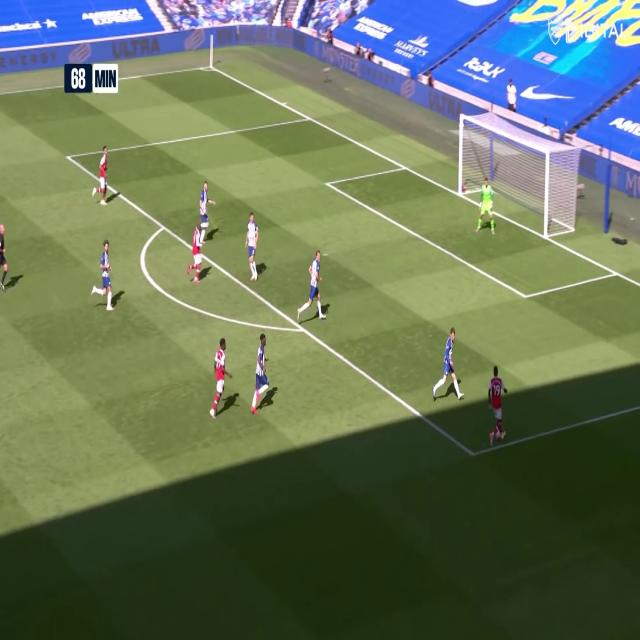Ball: (496, 430, 502, 441)
TEAM 1: (209, 336, 232, 419), (474, 179, 497, 236), (95, 146, 115, 210), (490, 369, 507, 444), (245, 213, 263, 281), (186, 224, 204, 282)
TEAM 2: (433, 324, 461, 402), (251, 334, 277, 416), (298, 249, 328, 320), (89, 239, 114, 314), (200, 167, 212, 234)
